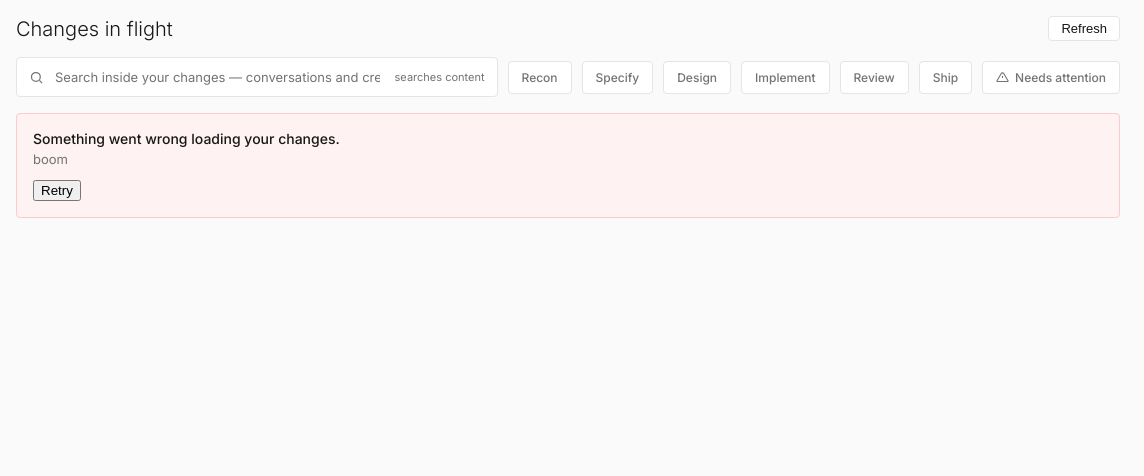
Test case: <Board> — enriched-feed integration seam (WP-007) › S-20 / EF-1 — feed fails → error box + Retry render (no partial board); Retry refetches to a good board
Expected: the text "Something went wrong loading your changes." is shown, x1=33 y1=130 x2=340 y2=147
Click the button "Retry".
click(57, 190)  # box x1=33 y1=180 x2=81 y2=201
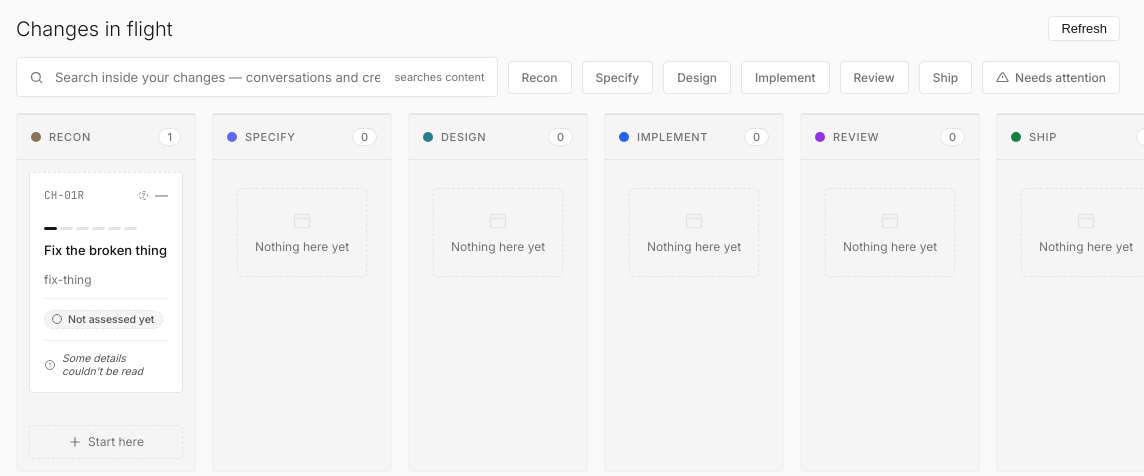
Expected: the text "CH-01R" is shown, x1=44 y1=188 x2=84 y2=202
